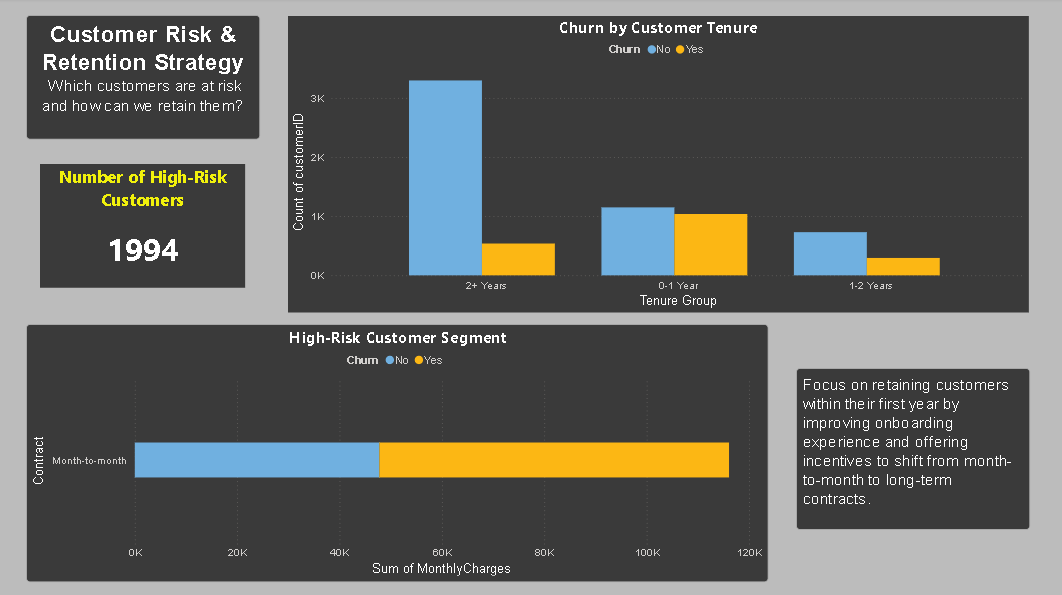

Layout of this report page (visuals, bound fields, positions):
{"tool":"powerbi","page":{"name":"Customer Risk Segmentation","canvas":[1280,720],"ordinal":2},"visuals":[{"type":"clusteredColumnChart","title":"Churn by Customer Tenure","fields":{"Category":["customer_churn.Tenure Group"],"Series":["customer_churn.Churn"],"Y":["CountNonNull(customer_churn.customerID)"]},"box":[349.5,21.3,892.2,356.6],"z":0},{"type":"barChart","title":"High-Risk Customer Segment","fields":{"Y":["Sum(customer_churn.MonthlyCharges)"],"Category":["customer_churn.Contract"],"Series":["customer_churn.Churn"]},"box":[34.1,392.1,893.6,311.1],"z":1000},{"type":"textbox","box":[960.4,445.4,281.9,195.3],"z":2000},{"type":"textbox","box":[34,21,282,150],"z":3000},{"type":"card","title":"Number of High-Risk Customers","fields":{"Values":["customer_churn.High Risk Customers"]},"box":[51,200,247,149],"z":4000}]}

Visuals, with their boxes in screenshot pixels (x1, y1, x2, y2), scaled from the page's 1280x720 canvas onto the 1062x595 screenshot:
"Churn by Customer Tenure" clusteredColumnChart: bbox=[290, 18, 1030, 312]
"High-Risk Customer Segment" barChart: bbox=[28, 324, 770, 581]
textbox: bbox=[797, 368, 1031, 529]
textbox: bbox=[28, 17, 262, 141]
"Number of High-Risk Customers" card: bbox=[42, 165, 247, 288]
